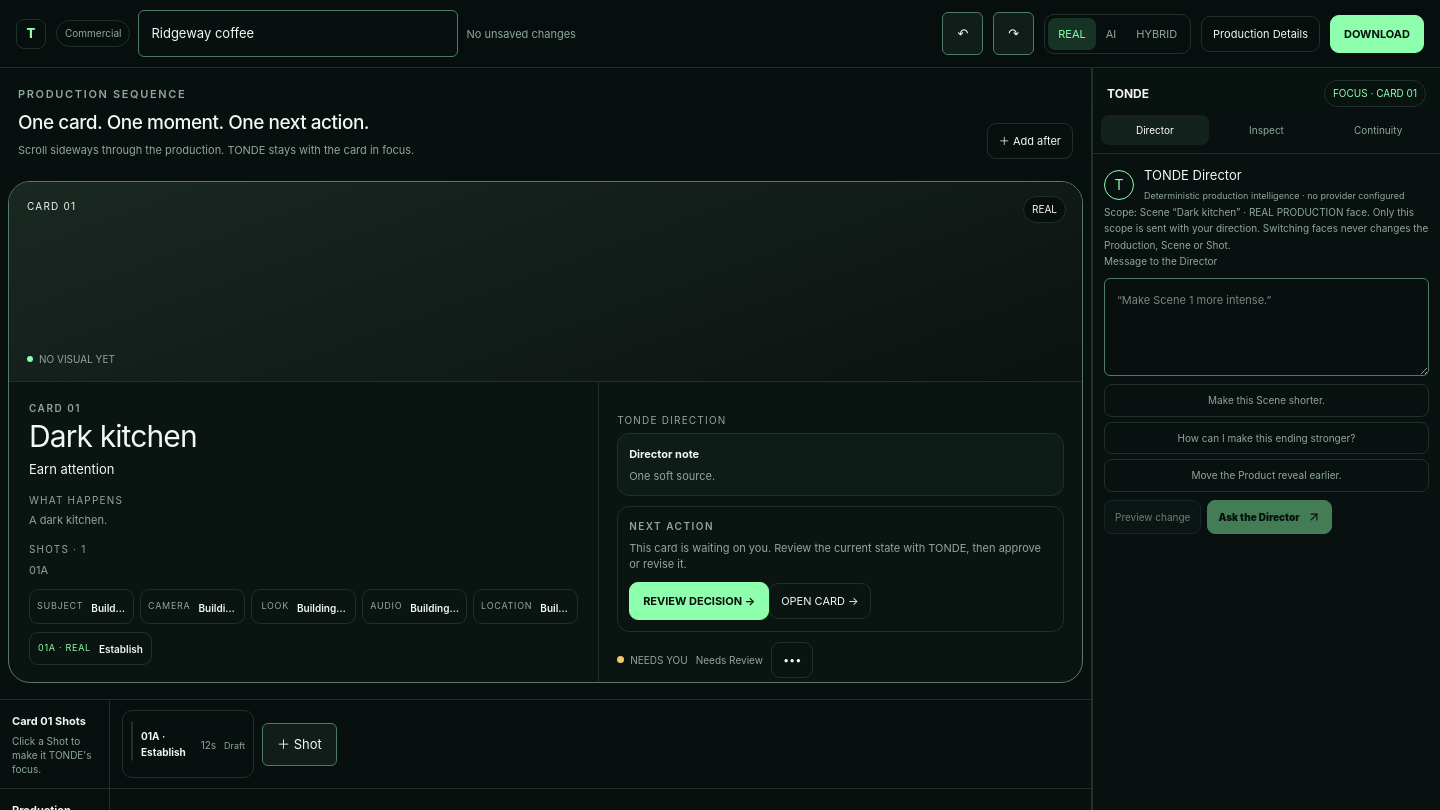
it: Card-first Studio shell › routes a card waiting on review to Readiness instead of a generic page
Expected: the text "NEEDS YOU" is shown, [617,652,688,668]
Click the button "REVIEW DECISION →" at x=699, y=601, box [629,582,769,620]
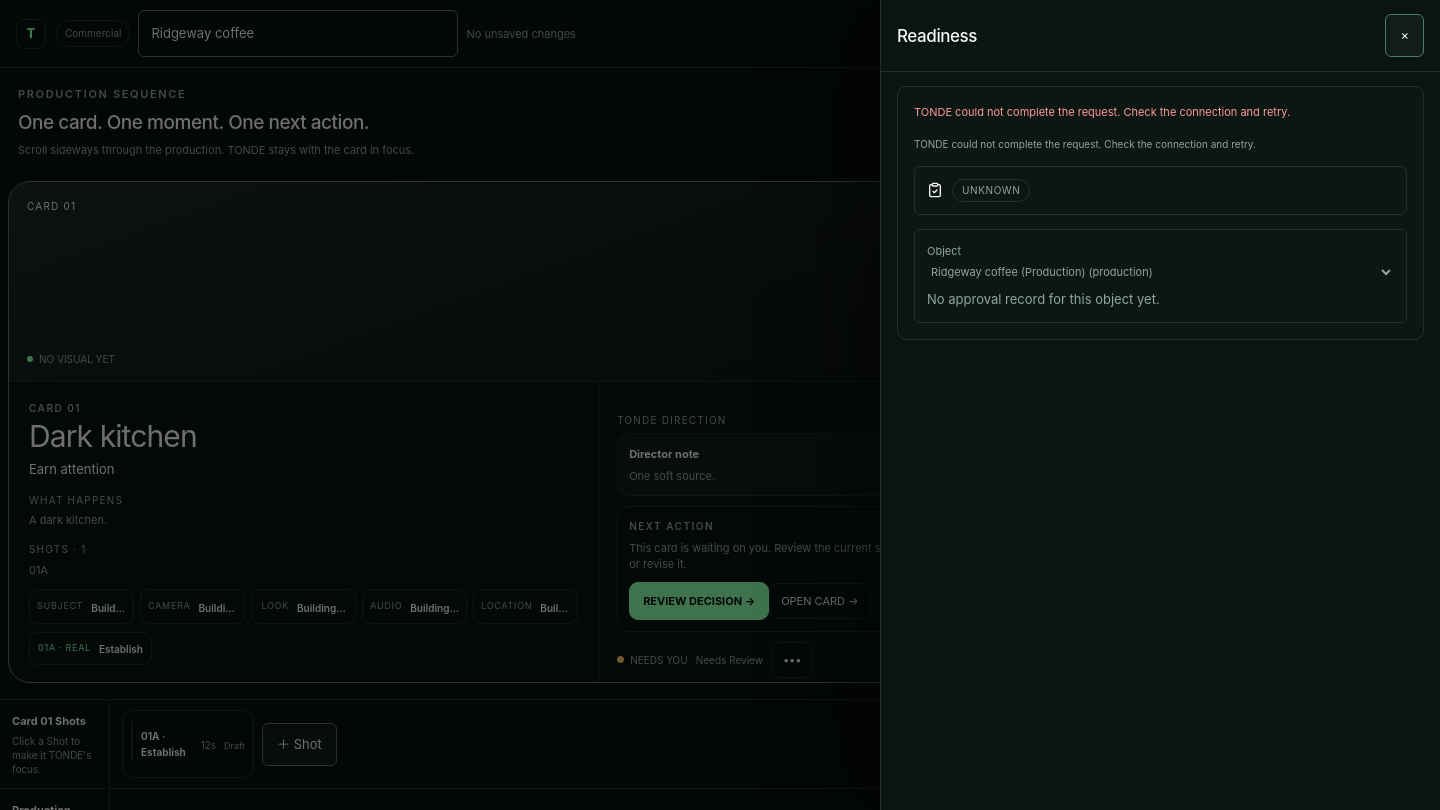
Expected: the dialog "Readiness" is shown, [880,0,1439,809]
